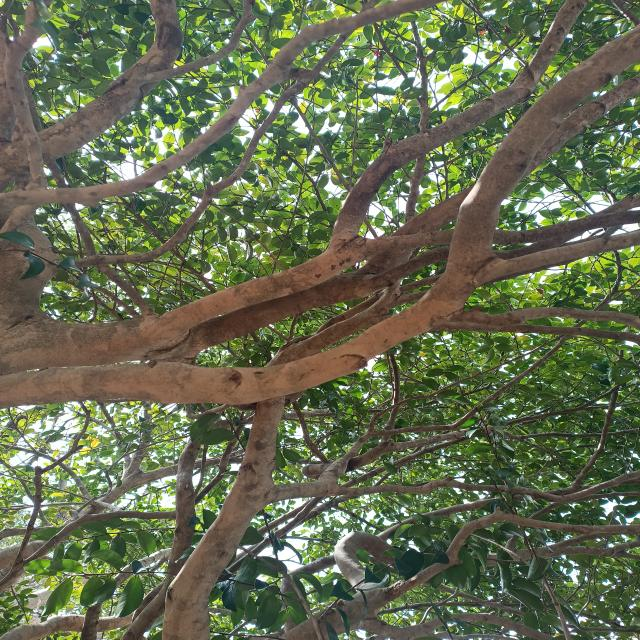Branch: (1, 26, 635, 409), (159, 282, 398, 640), (190, 270, 374, 352), (168, 254, 347, 328), (0, 314, 187, 376), (279, 590, 383, 640)
Twig: (1, 0, 442, 205), (59, 32, 350, 271), (329, 2, 593, 256), (272, 337, 563, 501), (380, 511, 640, 601), (346, 209, 639, 265), (0, 0, 47, 239), (333, 471, 636, 505), (477, 230, 640, 284), (446, 306, 640, 332), (372, 614, 562, 640), (438, 323, 640, 341), (387, 424, 477, 451), (380, 347, 402, 442)
